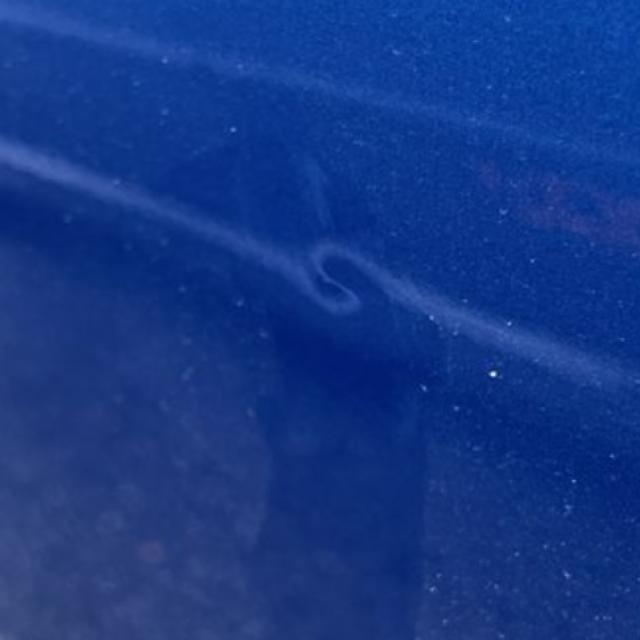dents: (256, 223, 436, 399)
